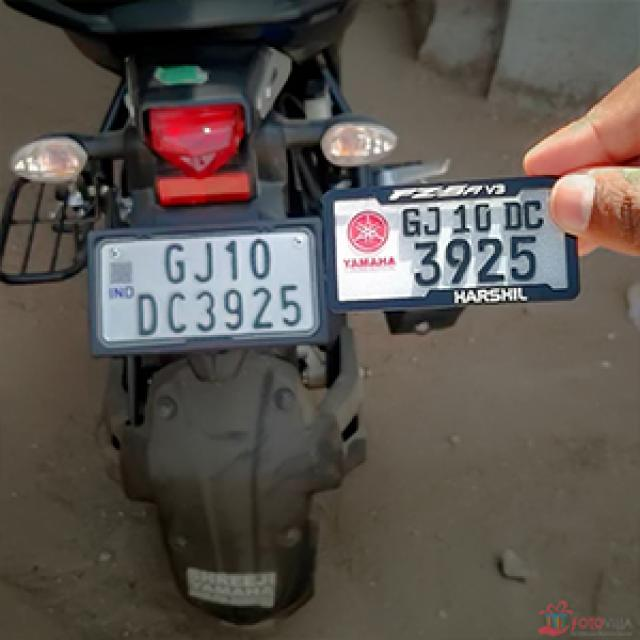plate: (87, 235, 326, 341)
